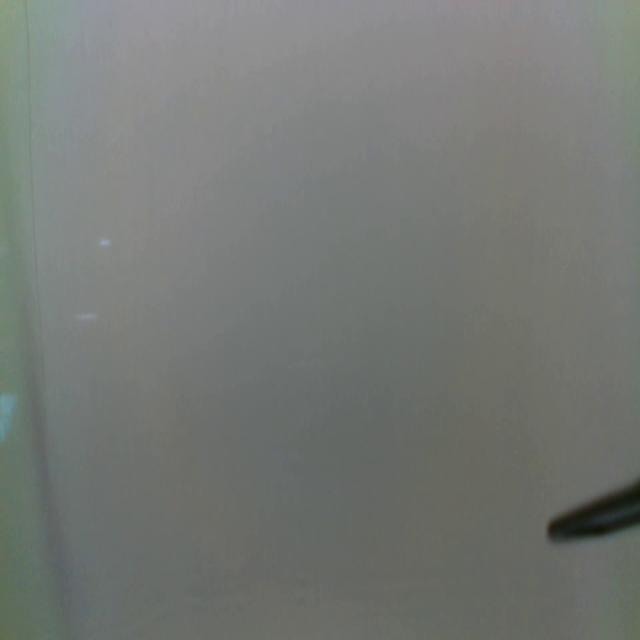crease: (22, 0, 47, 383)
